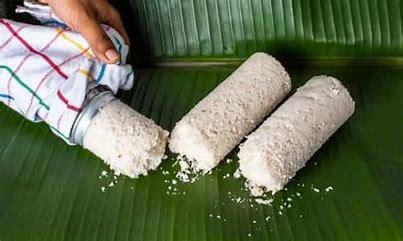Pittu: (101, 54, 357, 189)
